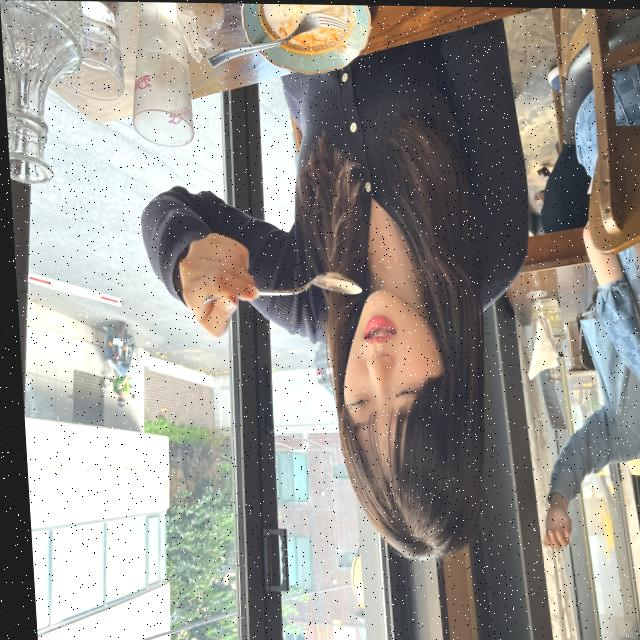eating-person: (122, 1, 558, 599)
